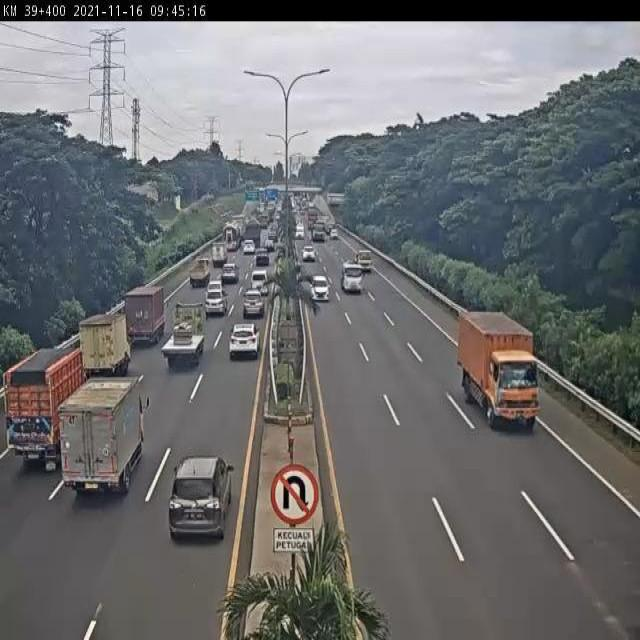car: (168, 460, 235, 541), (228, 324, 260, 360), (243, 288, 266, 319), (206, 291, 226, 316), (221, 260, 240, 283), (207, 279, 225, 296)
small bus: (251, 267, 270, 292)
small truck: (62, 376, 148, 493), (81, 315, 131, 376), (188, 259, 210, 285)
truck-m-: (5, 351, 86, 476), (459, 311, 539, 429), (162, 304, 205, 364), (125, 283, 167, 341)
